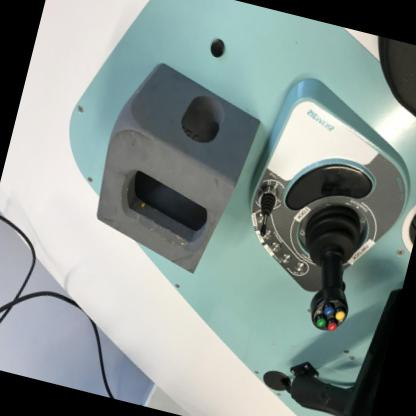CornerCasting: (80, 49, 276, 286)
